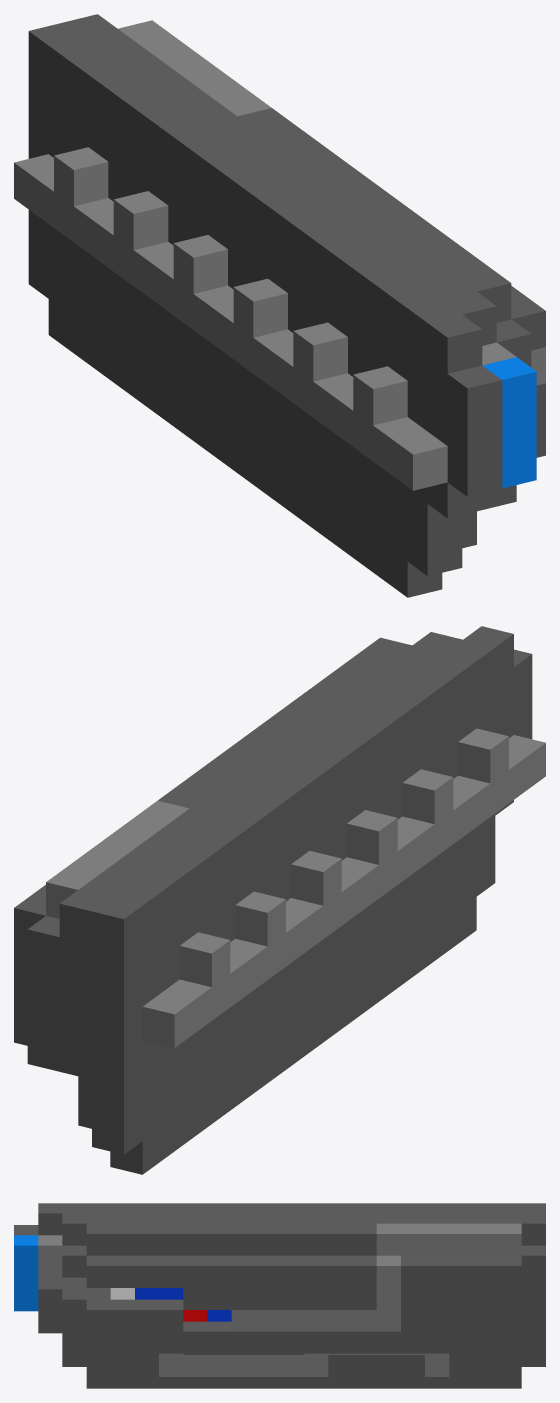
File: Extra-14-Warship_Laser_L.obj
3 renders of one model, top to bottom at view 1: azimuth 30°, elevation 25°; view 2: azimuth 150°, elevation 25°; view 3: azimuth 270°, elevation 25°, orthographic. The views are drawn at different scales.
Parts seen in each view (by area): view 1: Warship_Laser_L; view 2: Warship_Laser_L; view 3: Warship_Laser_L.
Boxes of the visible parts, x1=… form: Warship_Laser_L: x1=14, y1=14, x2=545, y2=597; Warship_Laser_L: x1=14, y1=626, x2=545, y2=1174; Warship_Laser_L: x1=14, y1=1203, x2=545, y2=1388.
Size of the model in its own units: 0.5 by 0.8 by 2.2.
Materials: 1 (1 with a texture image).
